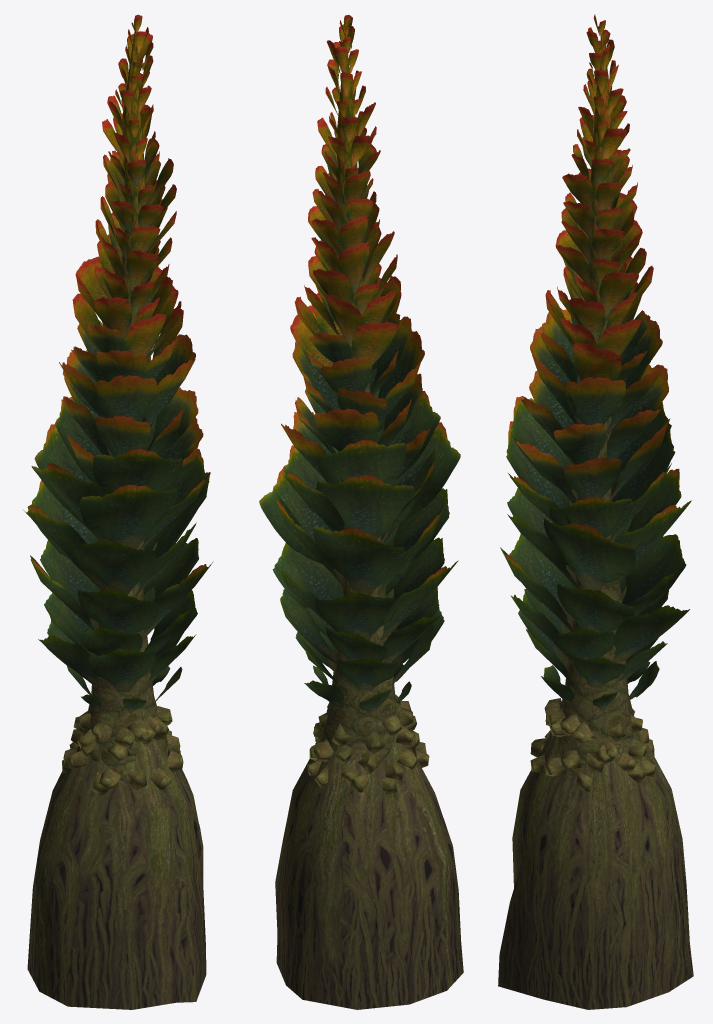
File: Plant4_L2.fbx
3 views of the same model, side by side, from view 1: azimuth 30°, elevation 25°; view 2: azimuth 150°, elevation 25°; view 3: azimuth 270°, elevation 25° (orthographic).
Visible parts, largest first — view 1: polySurface174; view 2: polySurface174; view 3: polySurface174.
Boxes of the visible parts, x1,y1,x2,y2 form: polySurface174: (23,14,213,1009); polySurface174: (259,15,463,1009); polySurface174: (498,14,693,1009).
Bounding box in the file's own units: 85.68 × 453 × 85.92.
